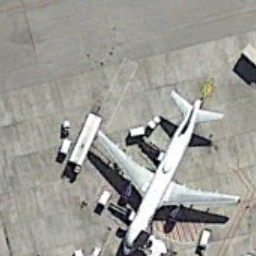Airplane: (84, 81, 248, 255)
